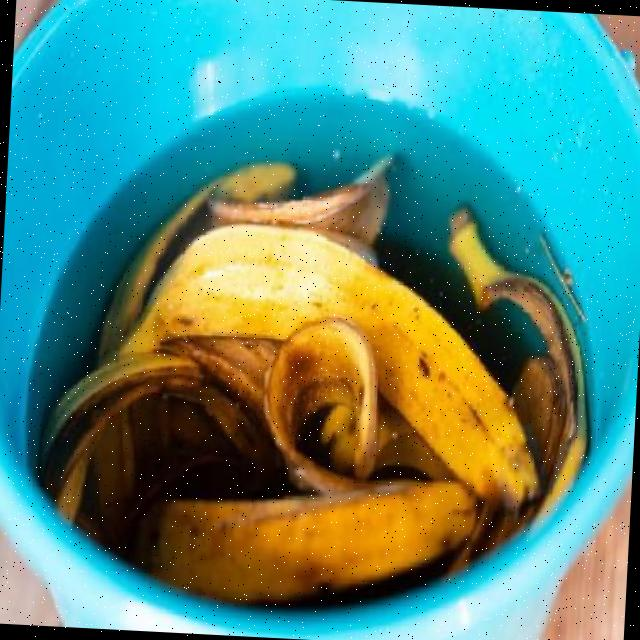banana-peel: (34, 144, 572, 616)
